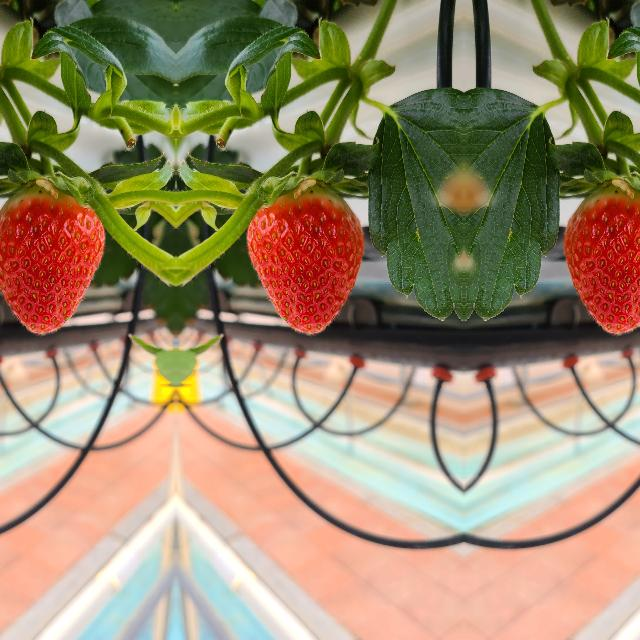Health_100: (244, 184, 364, 336), (0, 184, 106, 336), (562, 184, 640, 336)
